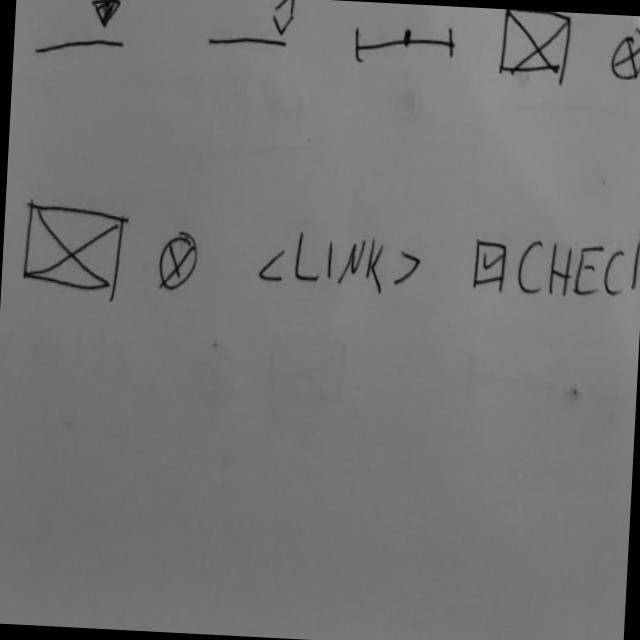checkbox: (469, 226, 640, 303)
image: (20, 195, 128, 298), (496, 9, 572, 80), (157, 230, 200, 296), (608, 26, 640, 86)
link: (256, 226, 424, 300)
number-input: (205, 0, 300, 50)
select: (32, 0, 129, 63)
slider: (352, 17, 458, 70)
